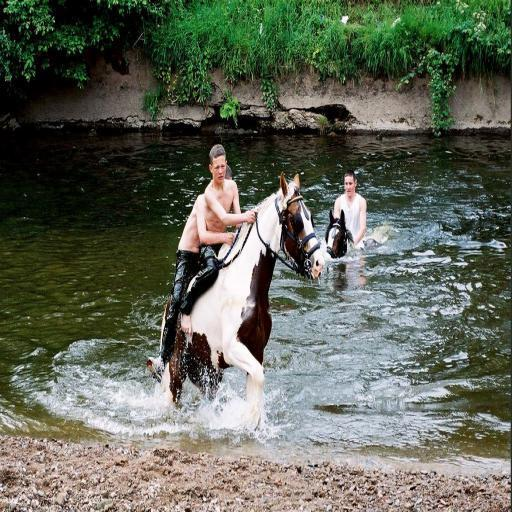horse: (156, 170, 326, 428), (322, 209, 383, 264)
